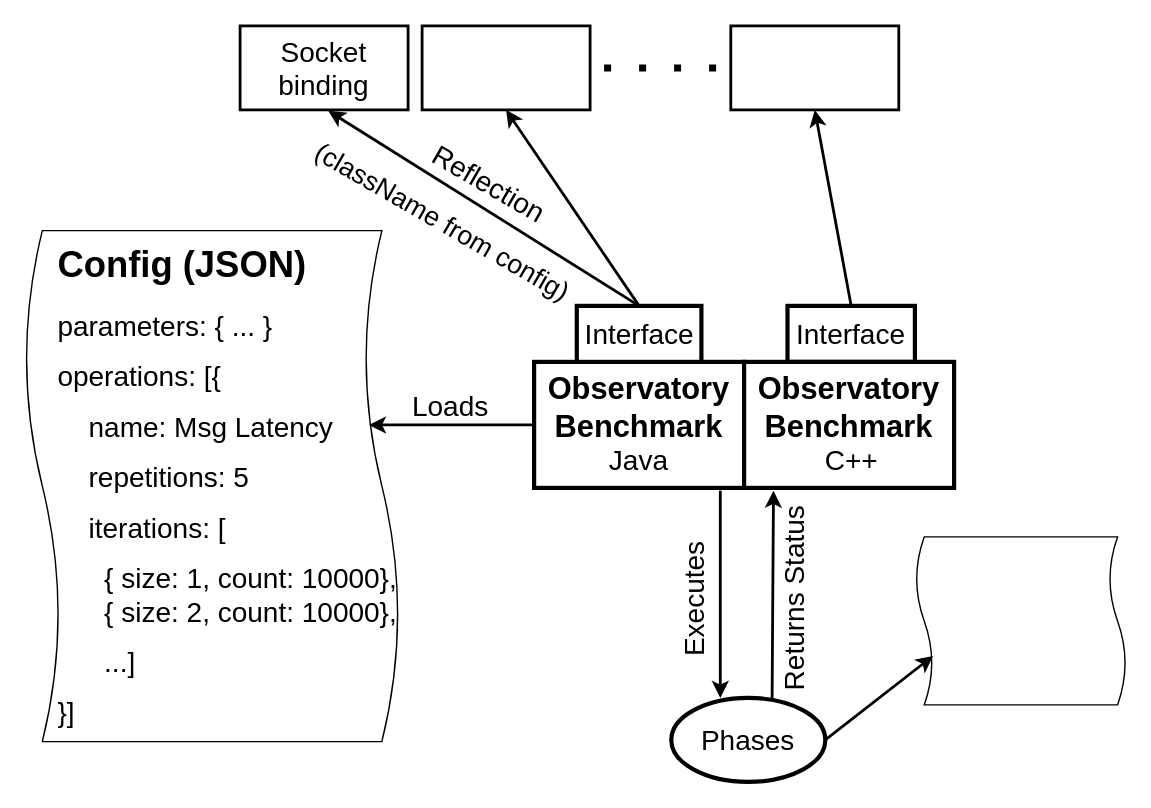
Some shapes in this 1151 by 808 pixel diagram are drawn without their labels. The centre of each missing label's shape, as x and y in pixels:
"ibverbs binding" goes at pixel 814 67.
"jVerbs binding" goes at pixel 505 67.
"Output file (CSV)" goes at pixel 1020 620.
